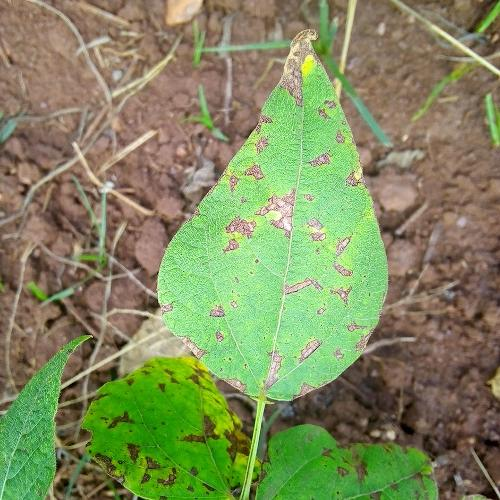hawar: (134, 77, 382, 351)
